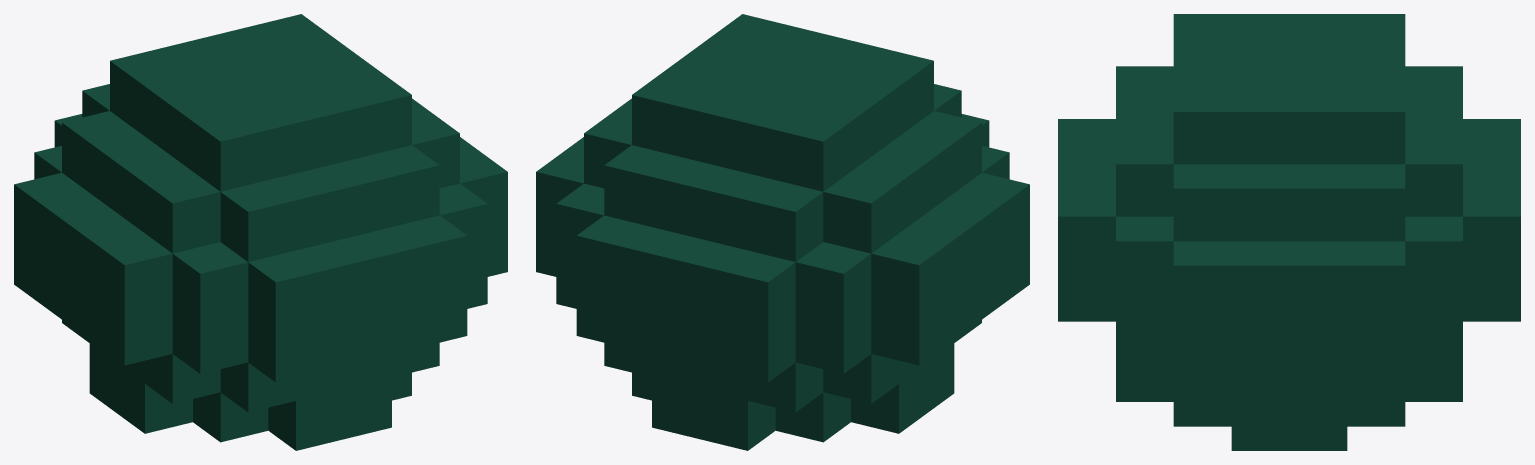
File: bush_alone_1.obj
3 renders of one model, left to right at view 1: azimuth 30°, elevation 25°; view 2: azimuth 150°, elevation 25°; view 3: azimuth 270°, elevation 25°, orthographic. The views are drawn at different scales.
Size of the model in its own units: 0.8 by 0.6 by 0.8.
Materials: 1 (1 with a texture image).
